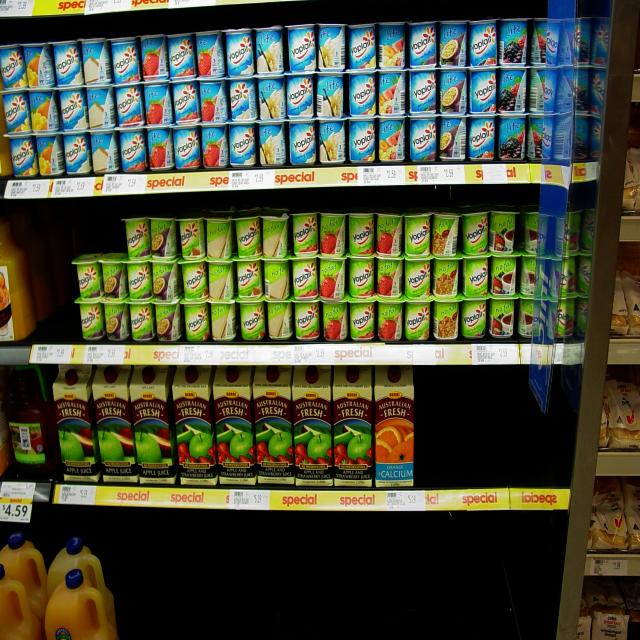empty_space: (122, 523, 523, 637), (423, 379, 533, 473), (43, 217, 73, 331)
